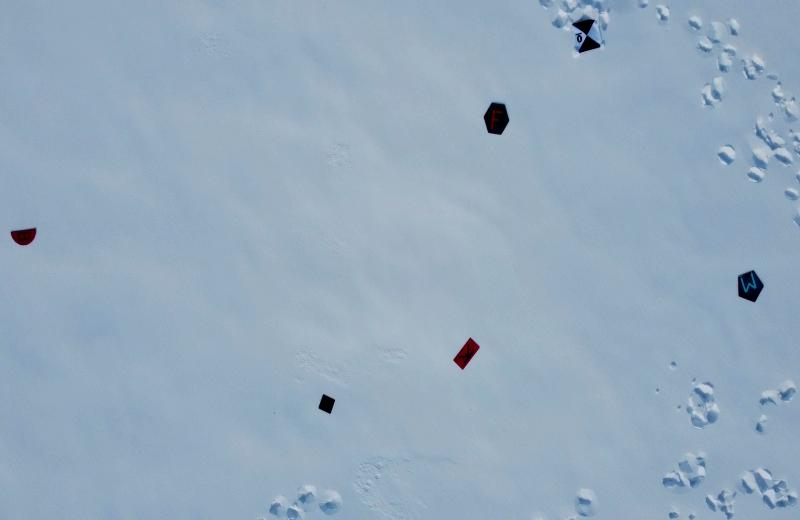Hexagon: (479, 97, 512, 139)
Pentagon: (732, 267, 767, 304)
Rectangle: (451, 335, 482, 373)
Semi Circle: (8, 225, 42, 249)
Square: (316, 392, 336, 417)
